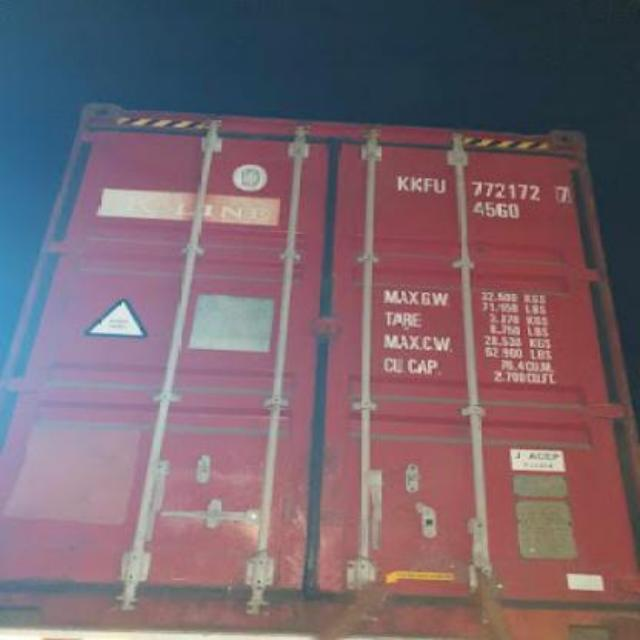1: (508, 182, 518, 200)
2: (490, 175, 508, 202), (530, 182, 546, 202)
7: (554, 180, 572, 202), (518, 178, 530, 204), (484, 176, 494, 198), (474, 177, 482, 200)
F: (421, 170, 434, 200)
K: (394, 168, 410, 196), (406, 170, 419, 197)
U: (430, 173, 454, 197)
